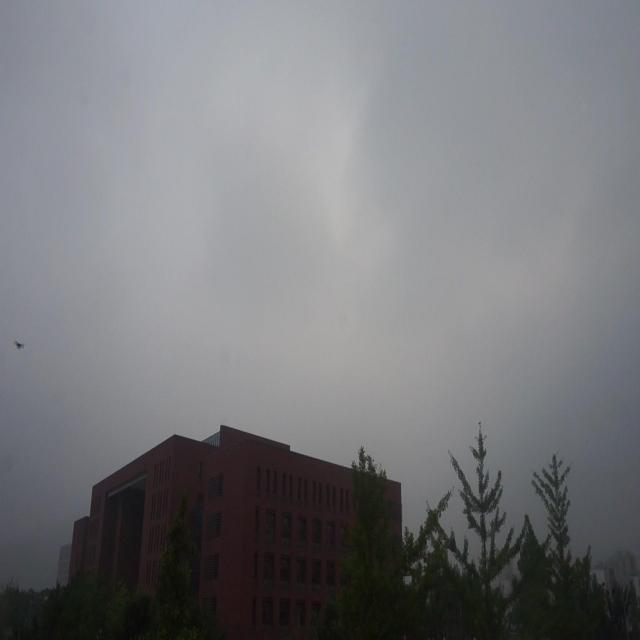UAV: (13, 341, 24, 351)
